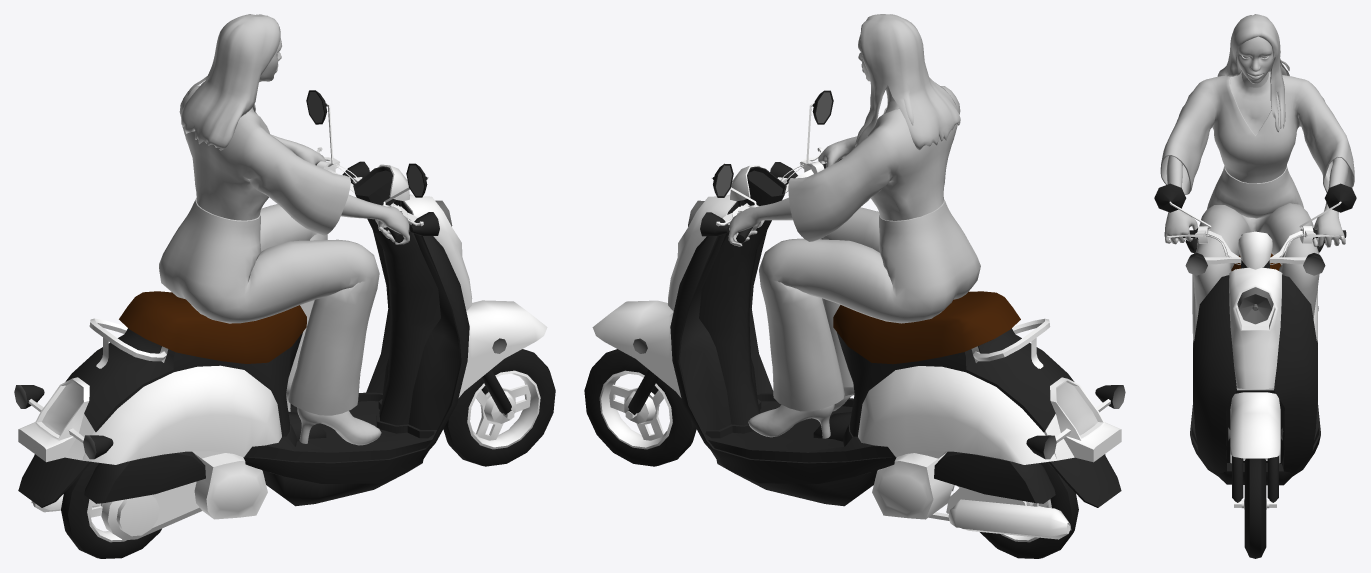
The model's file is sm_motorcycle_01_modelcenterpoint_lod_2.fbx.
3 views of the same model, side by side, from view 1: azimuth 30°, elevation 25°; view 2: azimuth 150°, elevation 25°; view 3: azimuth 270°, elevation 25° (orthographic). The views are drawn at different scales.
Visible parts, largest first — view 1: sm_motorcycle_01_lod_3; view 2: sm_motorcycle_01_lod_3; view 3: sm_motorcycle_01_lod_3.
Boxes of the visible parts, bbox=[...] form: sm_motorcycle_01_lod_3: bbox=[14, 14, 555, 558]; sm_motorcycle_01_lod_3: bbox=[584, 14, 1125, 558]; sm_motorcycle_01_lod_3: bbox=[1154, 14, 1356, 558].
Size of the model in its own units: 1.83 by 1.7 by 0.7183.
